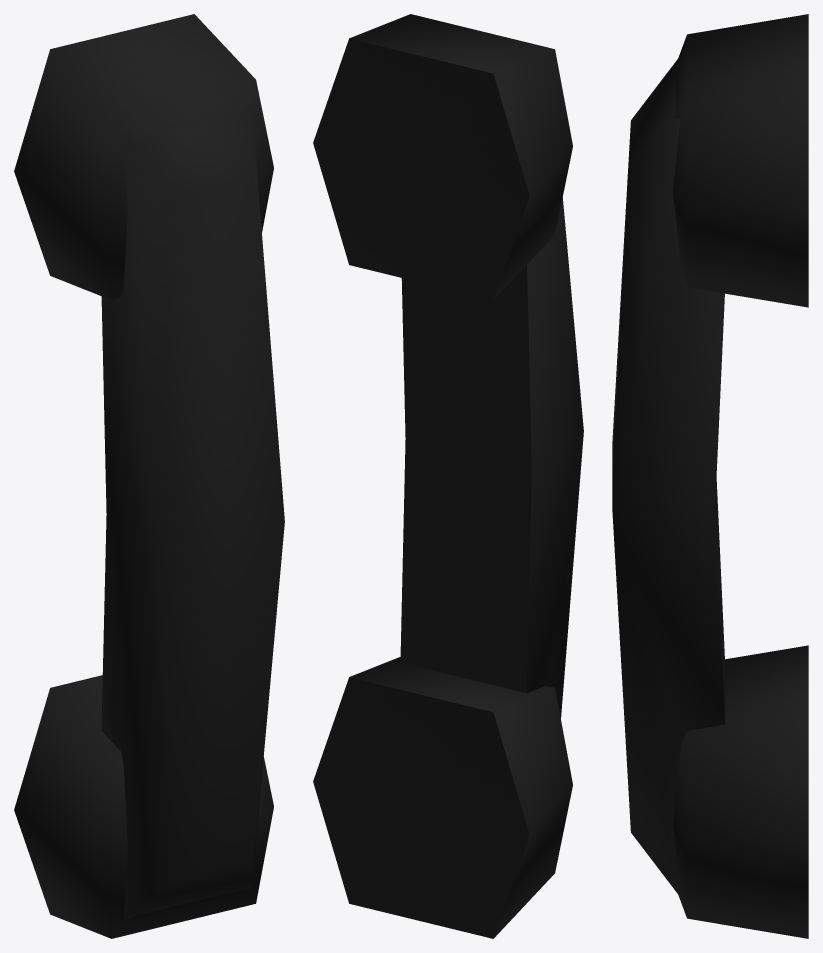
The model's file is SW_PROP_PublicPhone_Handset.fbx.
3 views of the same model, side by side, from view 1: azimuth 30°, elevation 25°; view 2: azimuth 150°, elevation 25°; view 3: azimuth 270°, elevation 25° (orthographic).
Parts seen in each view (by area): view 1: SW_PROP_PublicPhone_Handset; view 2: SW_PROP_PublicPhone_Handset; view 3: SW_PROP_PublicPhone_Handset.
Boxes of the visible parts, x1=… form: SW_PROP_PublicPhone_Handset: x1=14, y1=14, x2=284, y2=938; SW_PROP_PublicPhone_Handset: x1=313, y1=14, x2=583, y2=938; SW_PROP_PublicPhone_Handset: x1=612, y1=14, x2=808, y2=938.
Bounding box in the file's own units: 0.066 × 0.252 × 0.0525.
